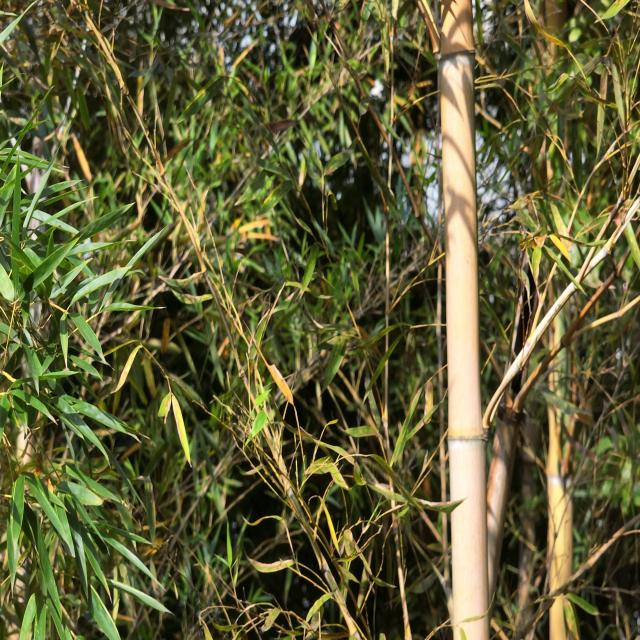Bamboo-shoots: (440, 0, 489, 640)
